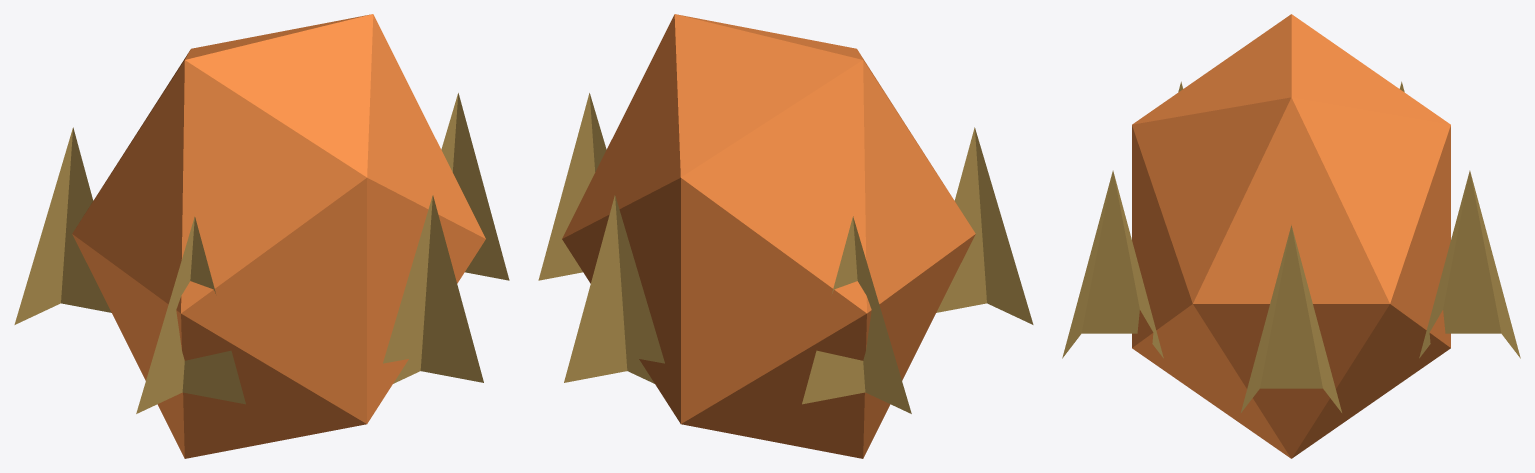
File: projectile_wizard_flame_orb.glb
The picture shows the model from 3 angles, left to right: view 1: azimuth 30°, elevation 25°; view 2: azimuth 150°, elevation 25°; view 3: azimuth 270°, elevation 25°; orthographic projection. The views are drawn at different scales.
Visible parts, largest first — view 1: flame_orb, flame_fin_1, flame_fin_3, flame_fin_2, flame_fin_0; view 2: flame_orb, flame_fin_4, flame_fin_2, flame_fin_3, flame_fin_0; view 3: flame_orb, flame_fin_0, flame_fin_1, flame_fin_4.
Part boxes in pixels (box(x1,y1,x2,y2)): flame_orb: box(72, 14, 485, 458); flame_fin_1: box(383, 195, 483, 383); flame_fin_3: box(14, 127, 111, 324); flame_fin_2: box(136, 216, 245, 413); flame_fin_0: box(441, 93, 509, 280); flame_orb: box(562, 14, 975, 458); flame_fin_4: box(564, 195, 664, 383); flame_fin_2: box(936, 127, 1033, 324); flame_fin_3: box(802, 216, 911, 413); flame_fin_0: box(538, 93, 606, 280); flame_orb: box(1132, 14, 1450, 458); flame_fin_0: box(1241, 225, 1341, 412); flame_fin_1: box(1062, 170, 1163, 358); flame_fin_4: box(1419, 170, 1520, 358).
Size of the model in its own units: 0.6512 by 0.5955 by 0.6848.
